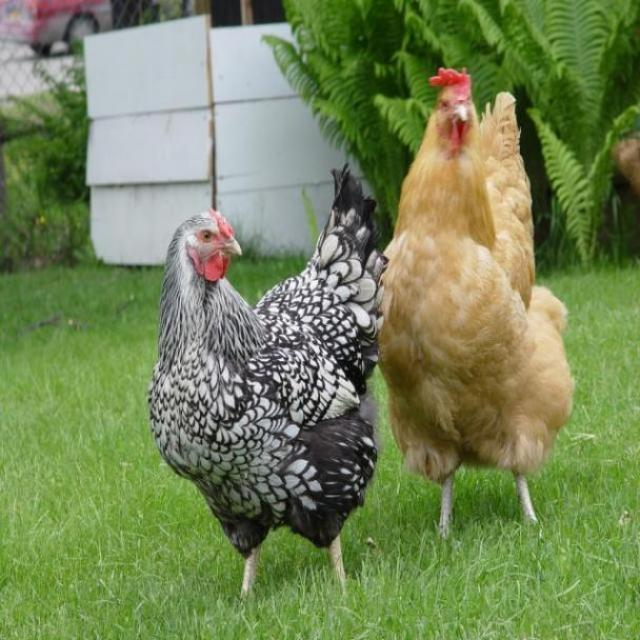Chicken: (147, 165, 390, 607), (371, 76, 572, 538)
